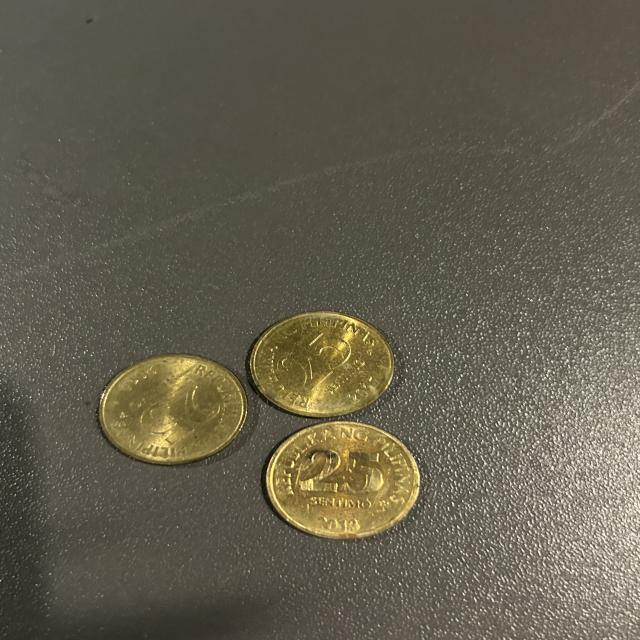25Cent_Old_Front: (276, 328, 383, 408)
